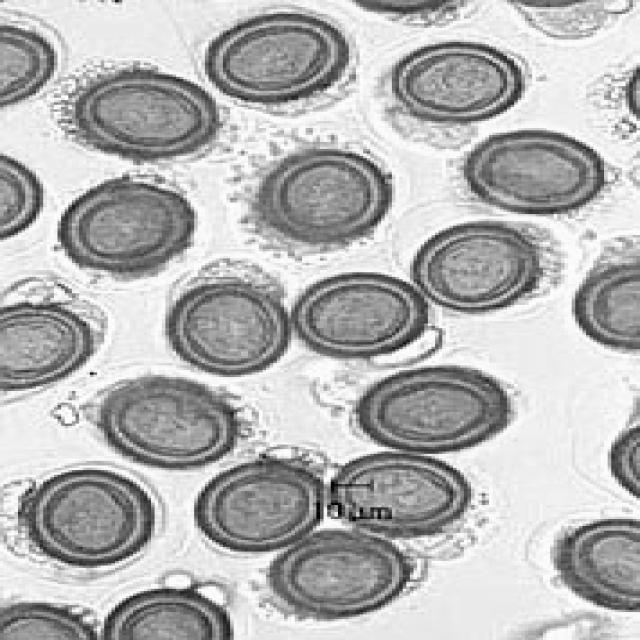Taenia Sp: (343, 362, 516, 455), (189, 10, 361, 101), (254, 143, 408, 243), (48, 172, 196, 275), (16, 462, 160, 562), (316, 449, 486, 533), (264, 532, 426, 620), (460, 124, 608, 220), (412, 219, 556, 314), (100, 377, 244, 472), (286, 271, 430, 362), (74, 68, 221, 154), (188, 460, 314, 560), (164, 282, 293, 374), (383, 39, 523, 122), (0, 298, 97, 393), (558, 519, 636, 617), (97, 586, 241, 638), (572, 260, 636, 354)
